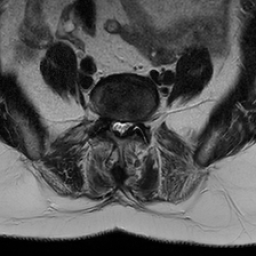CCS_severe_stenosis: (118, 115, 124, 141)
LFS_severe_stenosis: (132, 112, 141, 130)
LLS_stenosis: (125, 115, 132, 138)
RFS_severe_stenosis: (104, 108, 112, 129)
RLS_normal: (112, 114, 118, 137)
